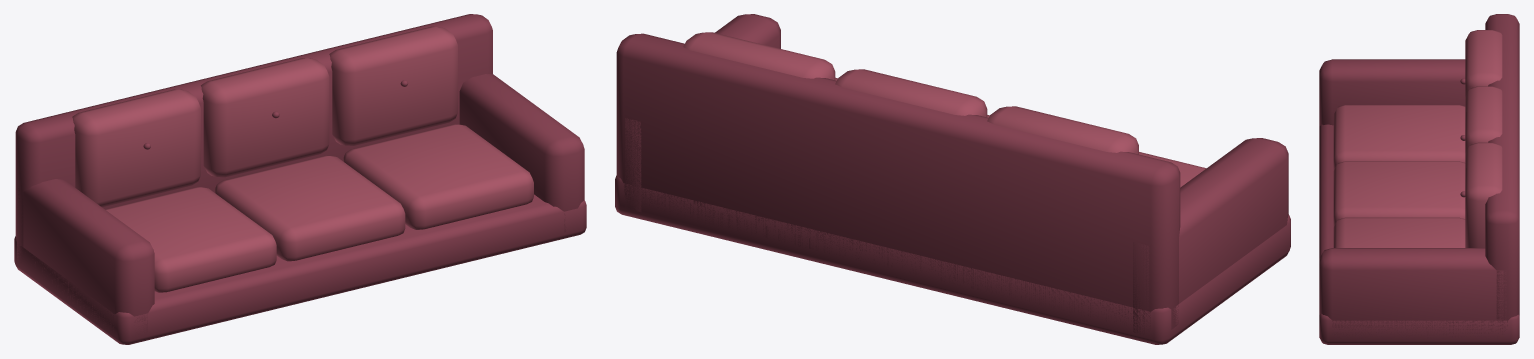
The model's file is sofa.glb.
3 views of the same model, side by side, from view 1: azimuth 30°, elevation 25°; view 2: azimuth 150°, elevation 25°; view 3: azimuth 270°, elevation 25° (orthographic). The views are drawn at different scales.
Parts seen in each view (by area): view 1: Cube, Cube.003, Cube.005, Cube.004, Cube.006, Cube.008, Cube.002, Cube.007, Cube.001, Cube.009; view 2: Cube.007, Cube, Cube.008, Cube.004, Cube.006, Cube.002, Cube.009, Cube.001; view 3: Cube.009, Cube.003, Cube.001, Cube.007, Cube.008, Cube, Cube.005, Cube.006, Cube.002, Cube.004.
Boxes of the visible parts, x1=… form: Cube: x1=14, y1=194, x2=586, y2=344; Cube.003: x1=214, y1=155, x2=405, y2=261; Cube.005: x1=343, y1=124, x2=533, y2=229; Cube.004: x1=201, y1=58, x2=329, y2=177; Cube.006: x1=329, y1=26, x2=457, y2=145; Cube.008: x1=18, y1=179, x2=154, y2=335; Cube.002: x1=72, y1=89, x2=200, y2=207; Cube.007: x1=15, y1=14, x2=492, y2=262; Cube.001: x1=105, y1=187, x2=276, y2=292; Cube.009: x1=459, y1=74, x2=584, y2=232; Cube.007: x1=616, y1=33, x2=1180, y2=329; Cube: x1=615, y1=175, x2=1290, y2=344; Cube.008: x1=1133, y1=138, x2=1288, y2=334; Cube.004: x1=835, y1=69, x2=987, y2=117; Cube.006: x1=683, y1=32, x2=835, y2=80; Cube.002: x1=987, y1=106, x2=1138, y2=154; Cube.009: x1=625, y1=14, x2=780, y2=211; Cube.001: x1=1139, y1=152, x2=1206, y2=187; Cube.009: x1=1319, y1=248, x2=1506, y2=338; Cube.003: x1=1333, y1=161, x2=1465, y2=226; Cube.001: x1=1333, y1=105, x2=1465, y2=170; Cube.007: x1=1485, y1=14, x2=1519, y2=331; Cube.008: x1=1319, y1=59, x2=1465, y2=125; Cube: x1=1319, y1=124, x2=1519, y2=344; Cube.005: x1=1333, y1=217, x2=1465, y2=247; Cube.006: x1=1465, y1=142, x2=1502, y2=247; Cube.002: x1=1465, y1=30, x2=1502, y2=96; Cube.004: x1=1465, y1=86, x2=1502, y2=152.
Size of the model in its own units: 170 by 53.5 by 70.
